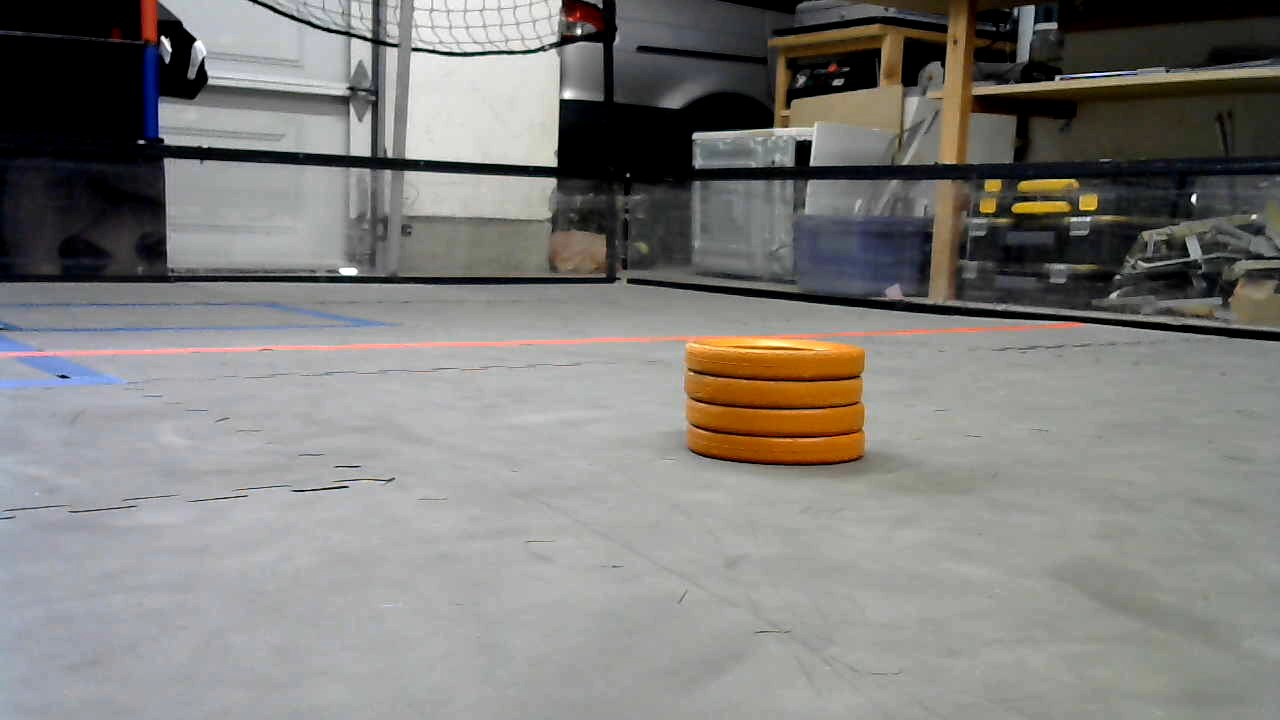FourStack: (685, 340, 869, 464)
